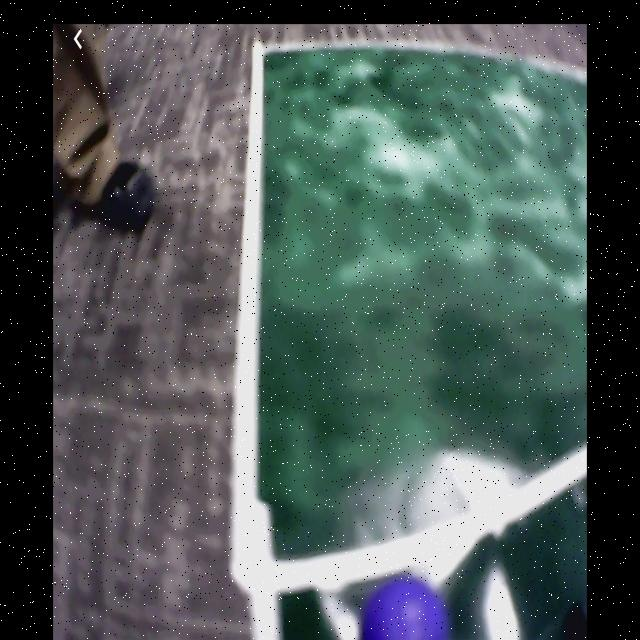ball: (363, 578, 451, 640)
